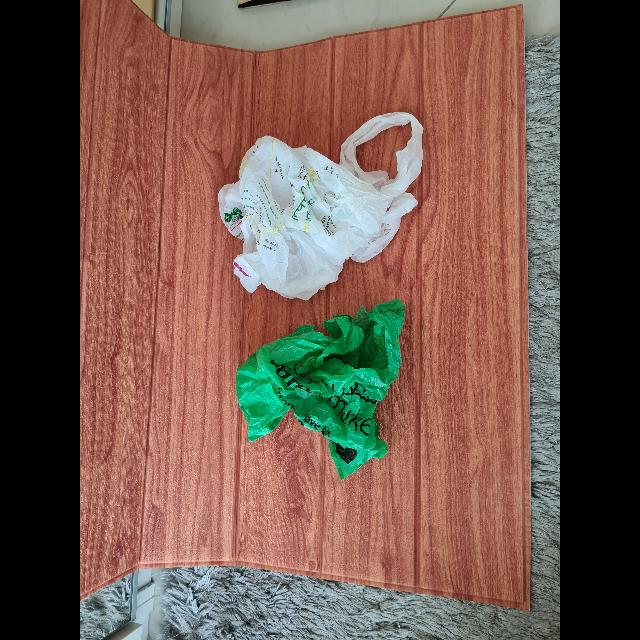plastic_bag: (216, 101, 414, 299), (236, 301, 412, 484)
